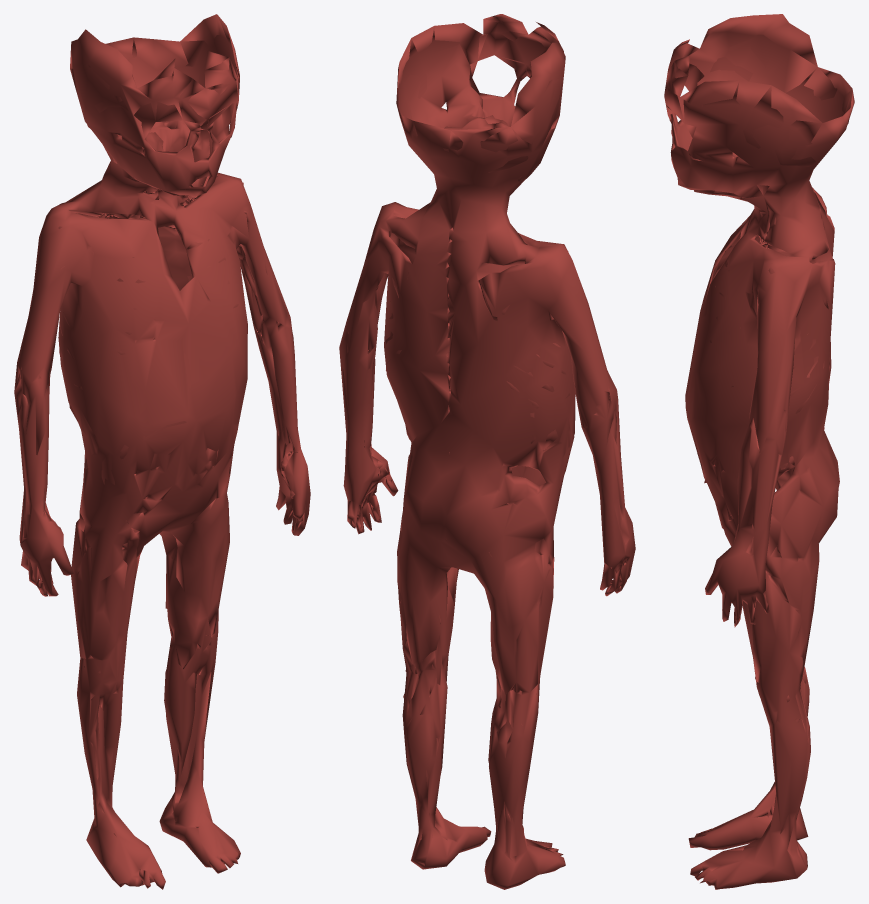
Rendered from pediatric_infant_female.muscular.LOD3.glb.
The picture shows the model from 3 angles, left to right: view 1: azimuth 30°, elevation 25°; view 2: azimuth 150°, elevation 25°; view 3: azimuth 270°, elevation 25°; orthographic projection.
Visible parts, largest first — view 1: PEDIATRIC.INFANT.FEMALE.MUSCULAR.MUSCLE; view 2: PEDIATRIC.INFANT.FEMALE.MUSCULAR.MUSCLE; view 3: PEDIATRIC.INFANT.FEMALE.MUSCULAR.MUSCLE.
Boxes of the visible parts, x1,y1,x2,y2 form: PEDIATRIC.INFANT.FEMALE.MUSCULAR.MUSCLE: (14, 14, 310, 889); PEDIATRIC.INFANT.FEMALE.MUSCULAR.MUSCLE: (339, 14, 635, 889); PEDIATRIC.INFANT.FEMALE.MUSCULAR.MUSCLE: (664, 14, 854, 889).
Bounding box in the file's own units: 0.2571 × 0.7313 × 0.1542.
